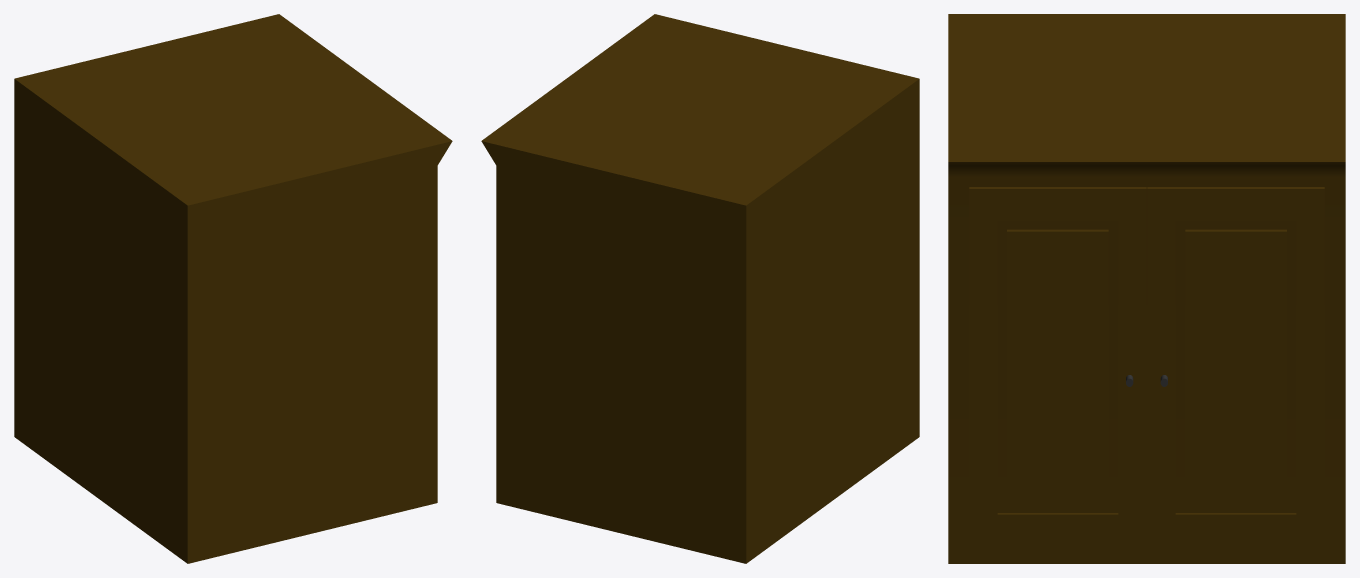
The model's file is kitchen cabinet.fbx.
3 views of the same model, side by side, from view 1: azimuth 30°, elevation 25°; view 2: azimuth 150°, elevation 25°; view 3: azimuth 270°, elevation 25° (orthographic). The views are drawn at different scales.
Visible parts, largest first — view 1: pCube1; view 2: pCube1; view 3: polySurface3, pCube1.
Part boxes in pixels (x1,y1,x2,y2): pCube1: (14, 14, 452, 563); pCube1: (481, 14, 919, 563); polySurface3: (969, 187, 1324, 546); pCube1: (948, 14, 1345, 563).
Size of the model in its own units: 2.32 by 3 by 2.63.
